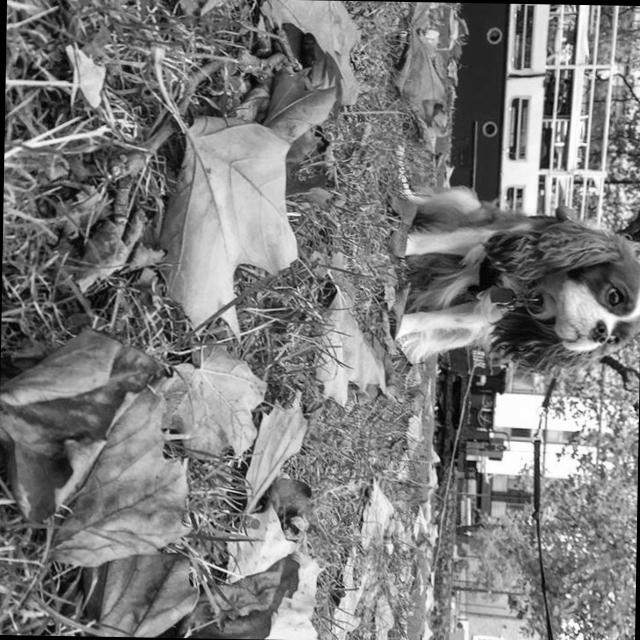squatting: (388, 169, 640, 395)
